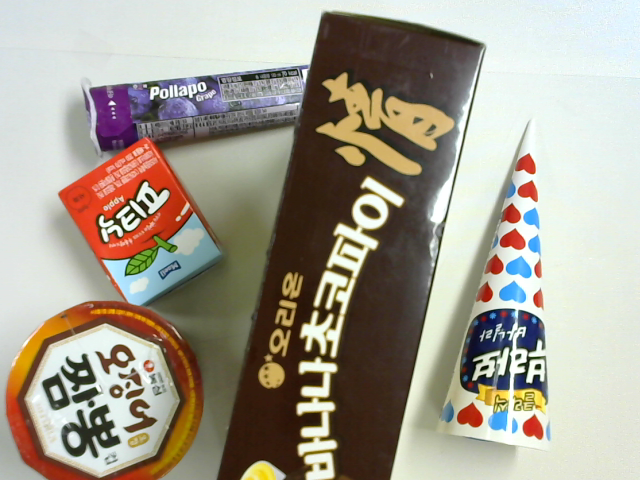Bravo_Cone_(Banila)_CVS: (435, 116, 569, 452)
Choco_Pie_Banana: (215, 16, 489, 480)
Ojjam: (1, 306, 203, 480)
Picnic_Apple: (59, 144, 225, 300)
Polapo_Grape: (81, 64, 309, 158)
